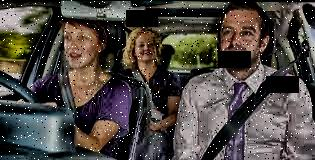seatbelt: (199, 37, 310, 160), (55, 45, 82, 130), (131, 64, 156, 109)
